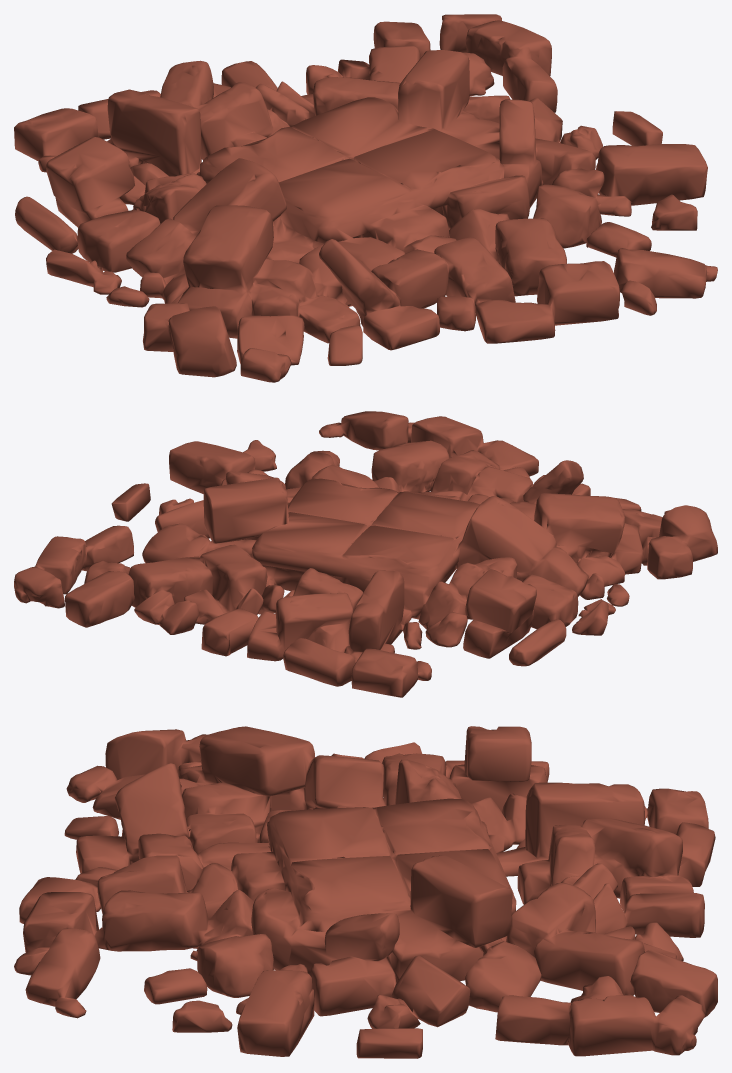
Rendered from gen-rubble-pile-1.glb.
3 renders of one model, top to bottom at view 1: azimuth 30°, elevation 25°; view 2: azimuth 150°, elevation 25°; view 3: azimuth 270°, elevation 25°, orthographic. The views are drawn at different scales.
Parts seen in each view (by area): view 1: gen-rubble-pile-1_part1; view 2: gen-rubble-pile-1_part1; view 3: gen-rubble-pile-1_part1.
Part boxes in pixels (<box>): gen-rubble-pile-1_part1: <box>14,14,717,382</box>; gen-rubble-pile-1_part1: <box>14,411,717,697</box>; gen-rubble-pile-1_part1: <box>14,726,717,1058</box>.
Size of the model in its own units: 1837 by 282 by 1820.
